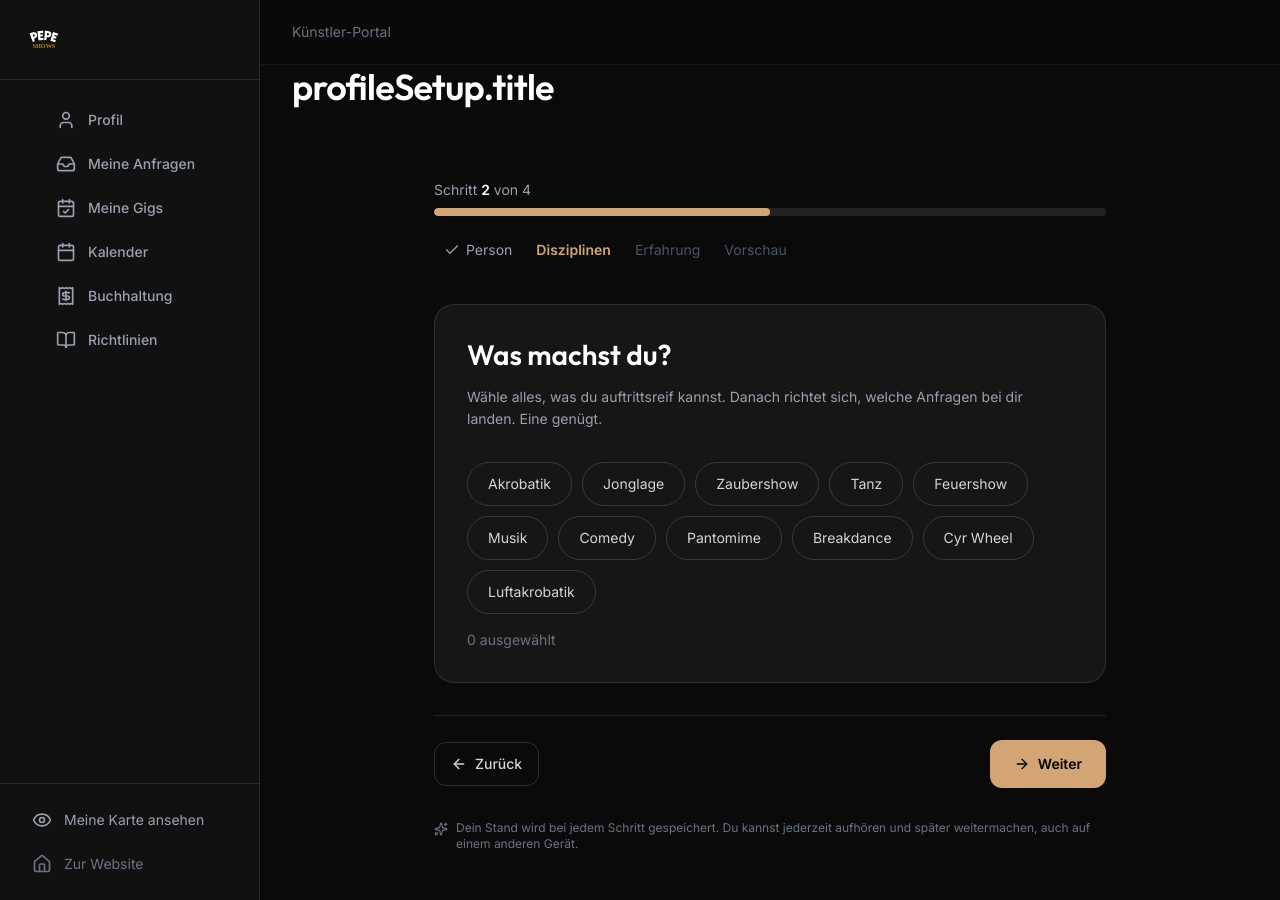
Test case: ProfileSetup › sichert beim Weitergehen ohne einzureichen
The image size is (1280, 900).
Expected: the progress indicator named "Fortschritt der Anmeldung" is shown, x1=434 y1=208 x2=1106 y2=216
Click the button "Jonglage" at x=634, y=484, box x1=582 y1=462 x2=685 y2=506
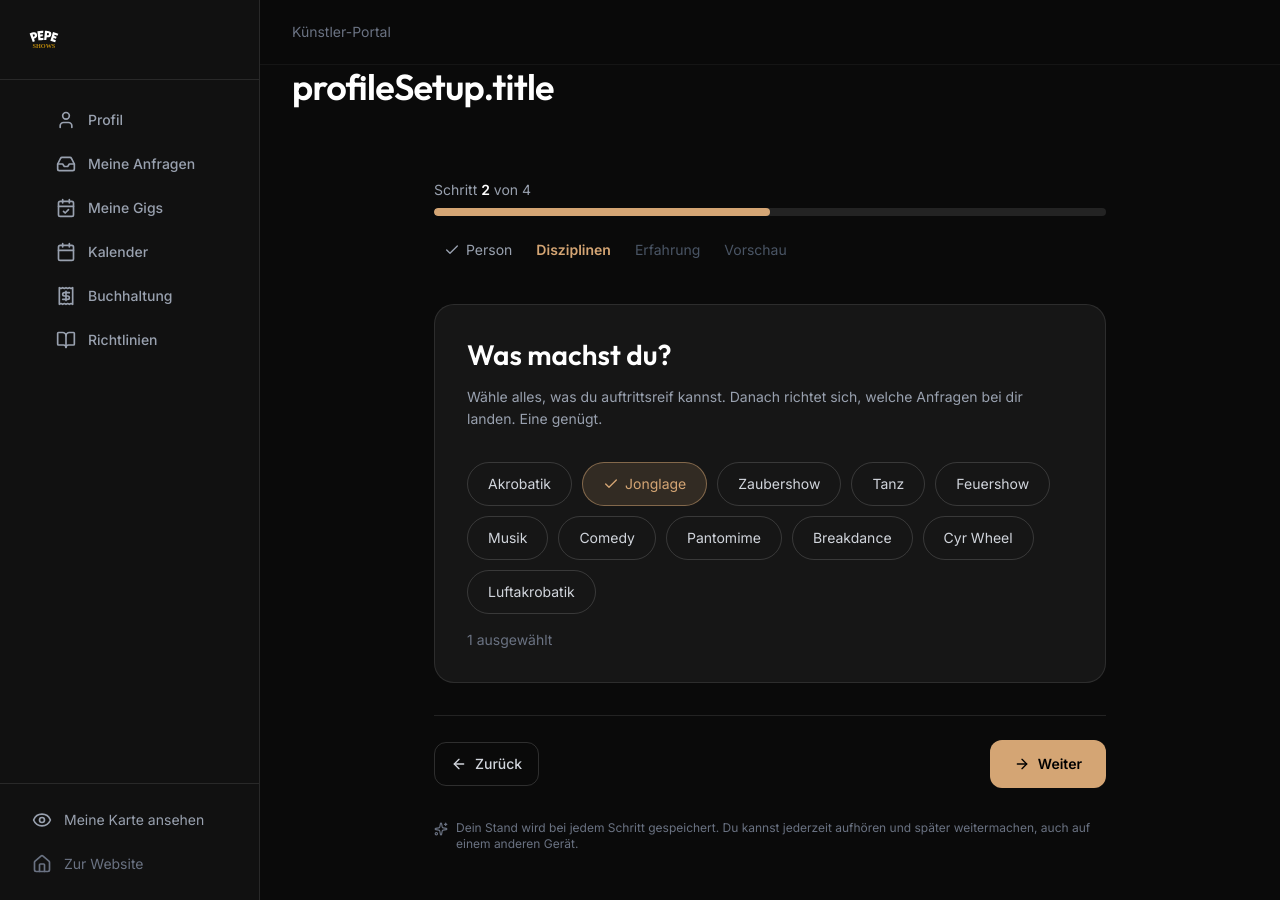
Click the button "Weiter" at x=1048, y=764, box x1=990 y1=740 x2=1106 y2=788
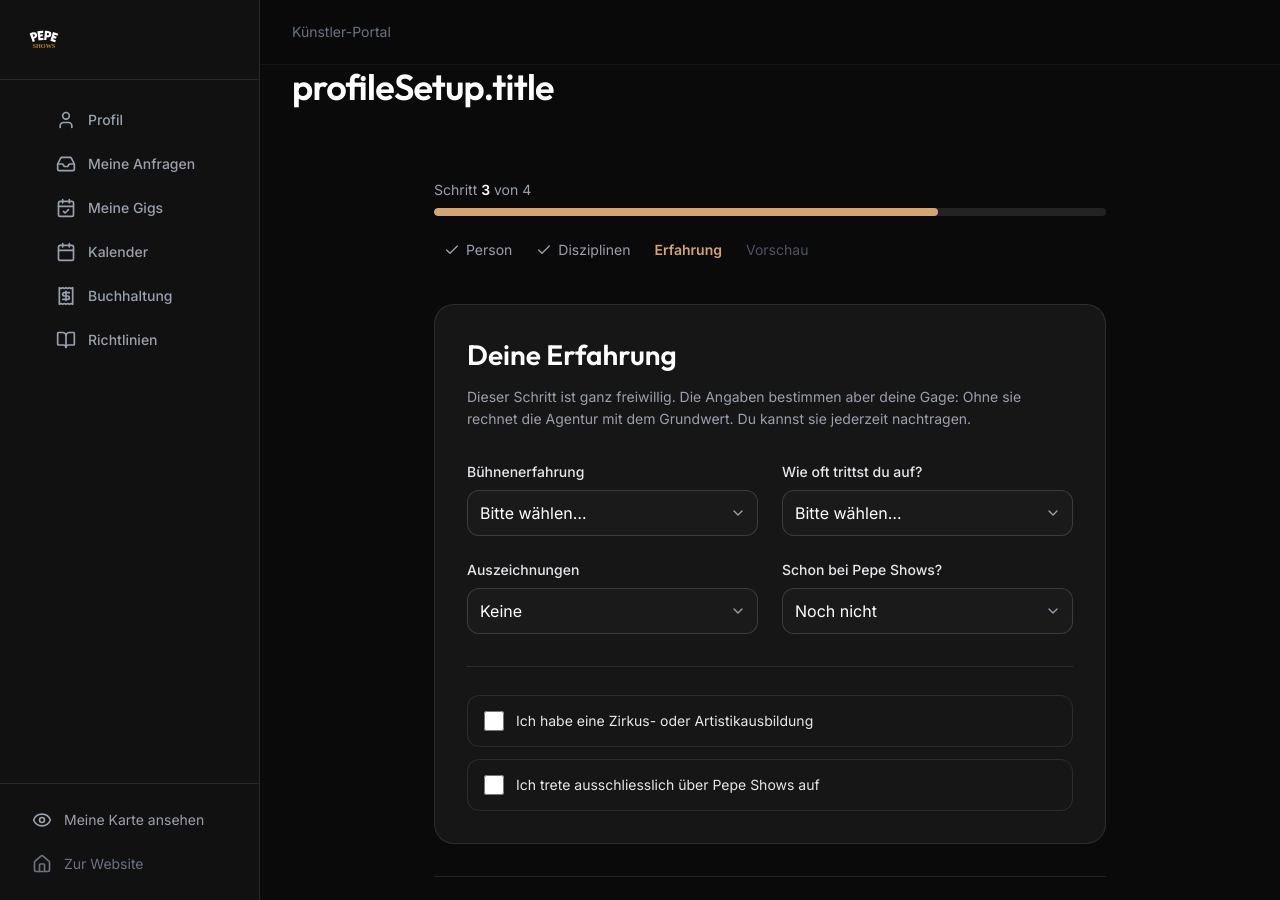
Result: the heading "Deine Erfahrung" is shown at x1=467 y1=337 x2=677 y2=372
